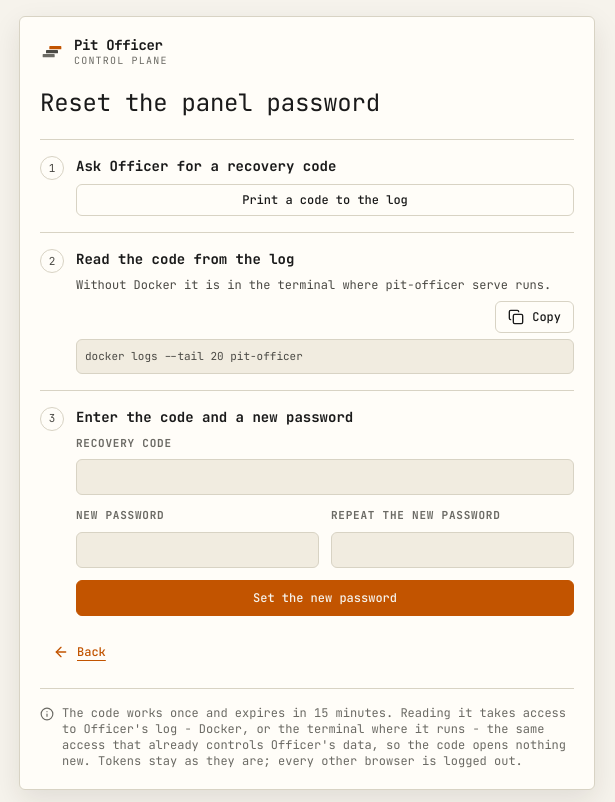
Test: PasswordRecovery › asking for a code › asks POST /session/recovery and says the code is in the log
Click the button "Print a code to the log": point(325, 200) [76,184,574,216]
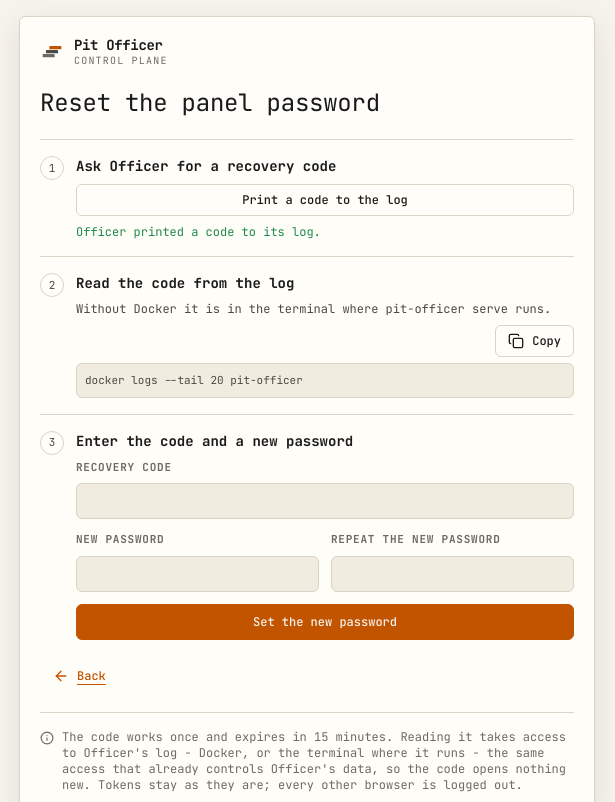
Expected: the text "Officer printed a code to its log." is shown, [76,224,321,240]
